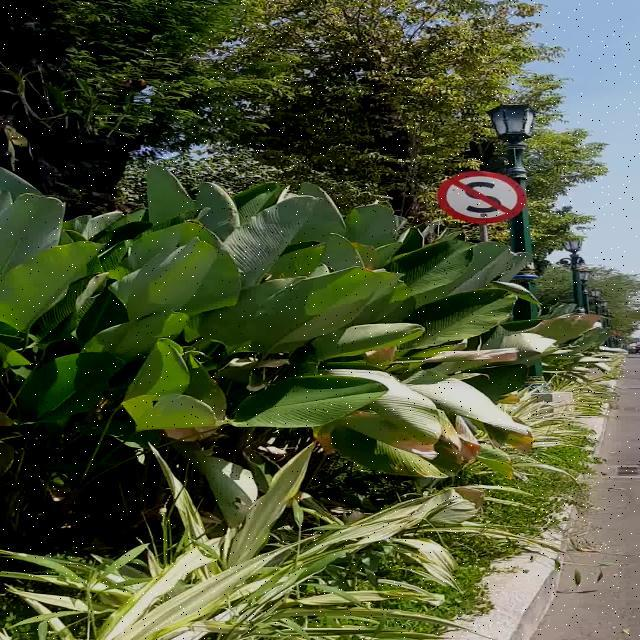Dilarang Berhenti: (438, 172, 526, 224)
